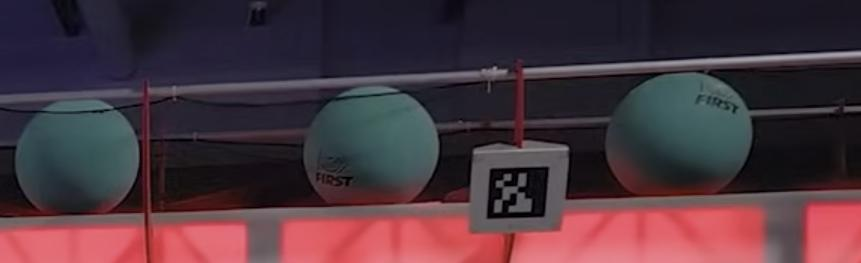algae: (606, 72, 753, 196), (303, 88, 439, 205), (16, 100, 140, 216)
